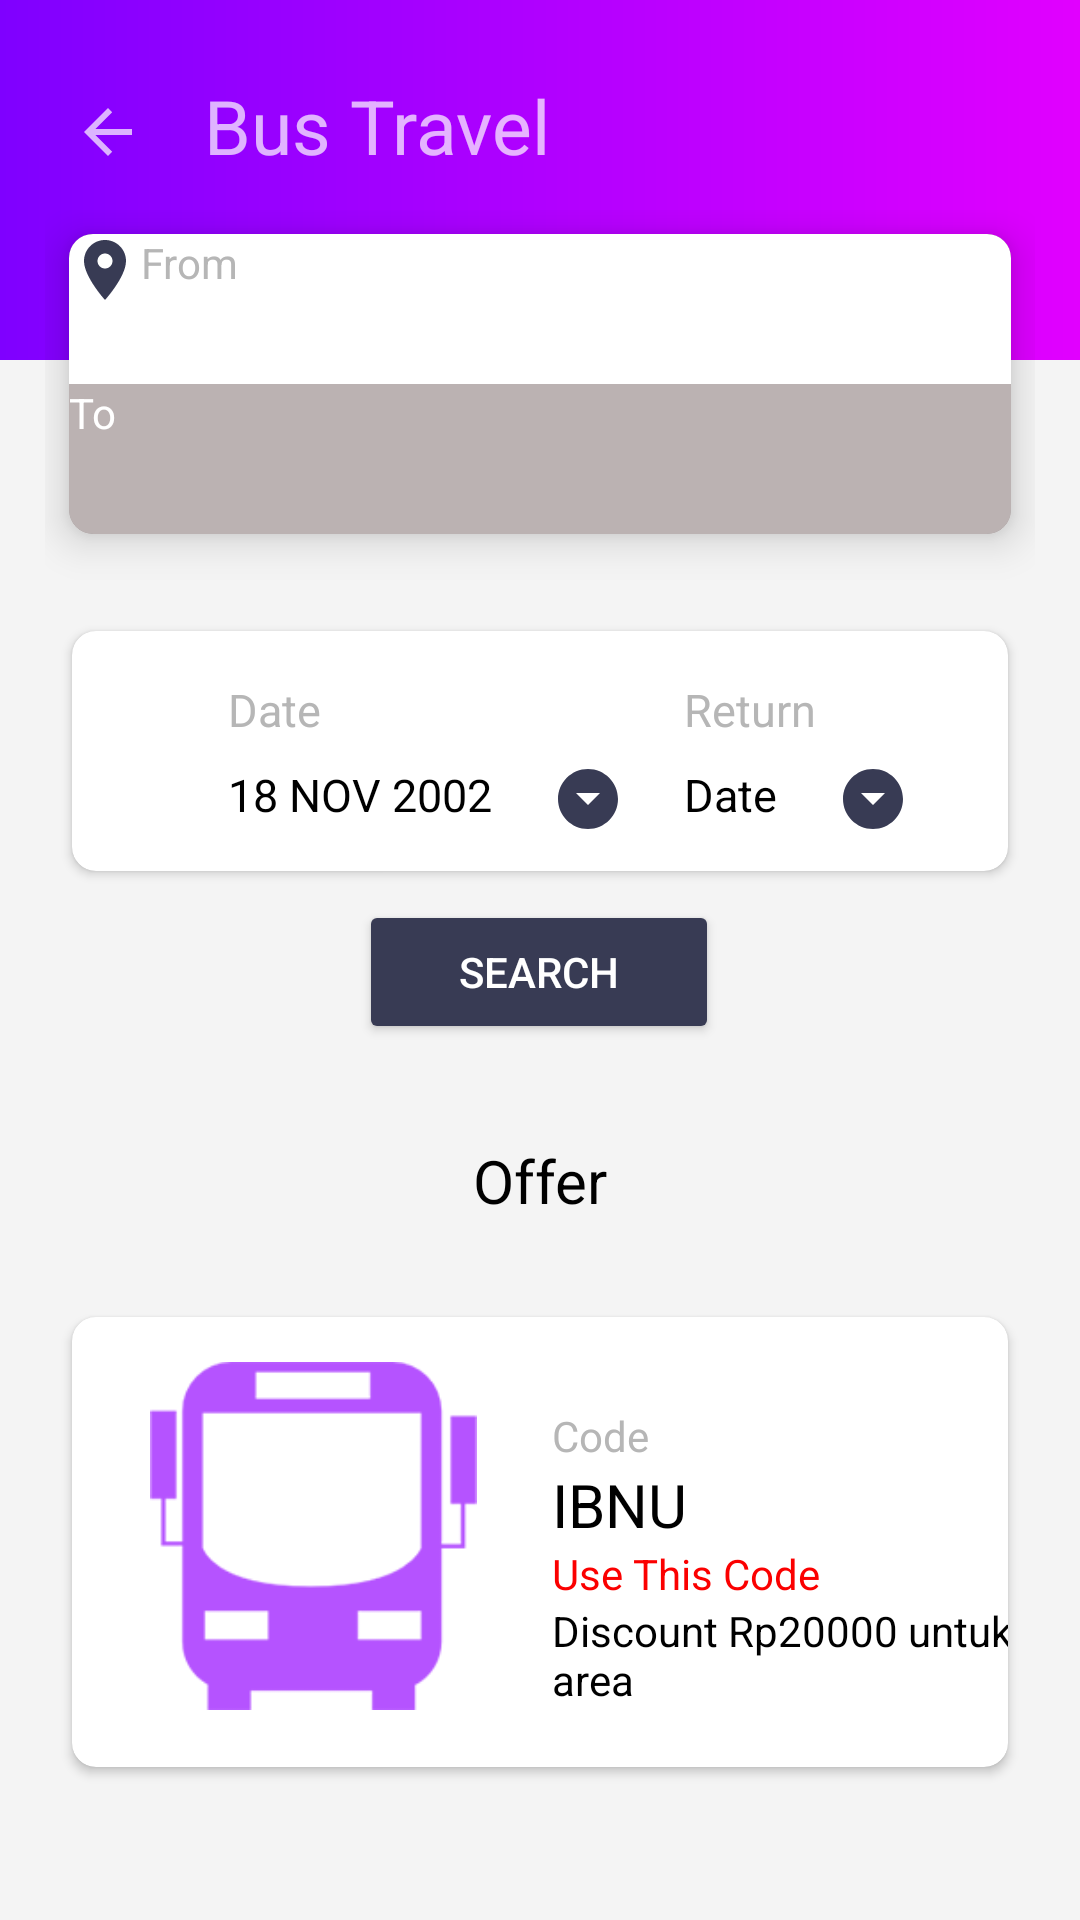

Icon click points for this 1080 × 1920 phone screenshot, format (x=x, y=y):
arrow drop down circle: (x=588, y=799), (x=873, y=799)
bus: (x=313, y=1536)
location on: (x=105, y=270)
